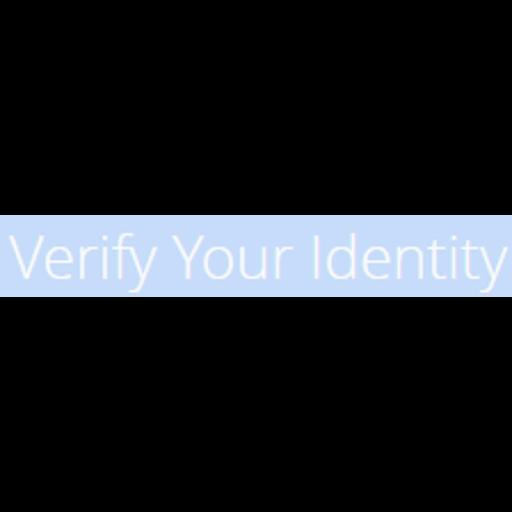Chase Personal Banking: (0, 215, 512, 297)
